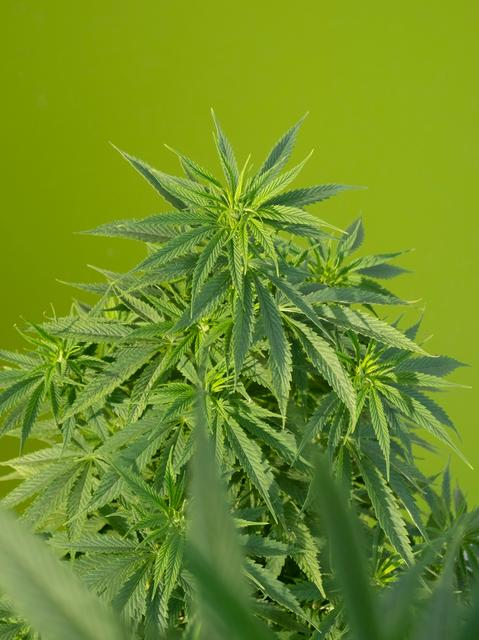Marijuana Bud: (92, 117, 355, 293), (265, 272, 439, 432), (177, 261, 332, 429), (2, 327, 105, 447), (2, 440, 118, 540)
